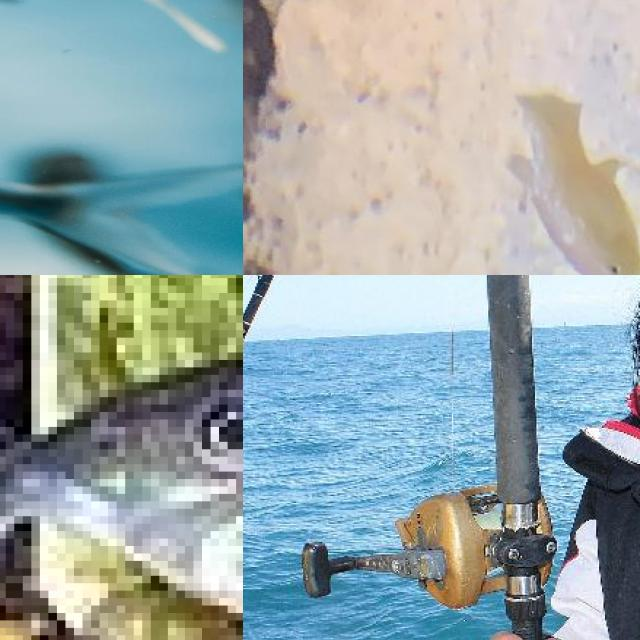fish: (0, 275, 243, 640), (0, 0, 243, 275), (509, 91, 640, 275)
